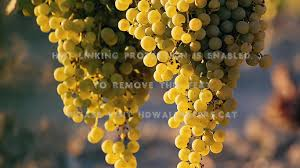grapes: (128, 3, 267, 166), (41, 5, 157, 167)
